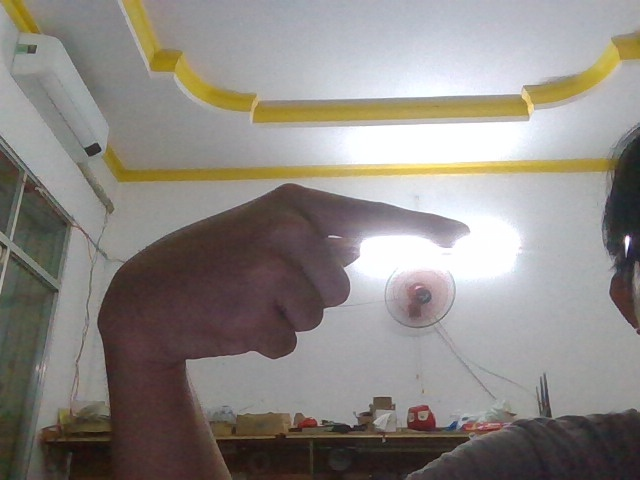turn_left: (89, 180, 486, 365)
